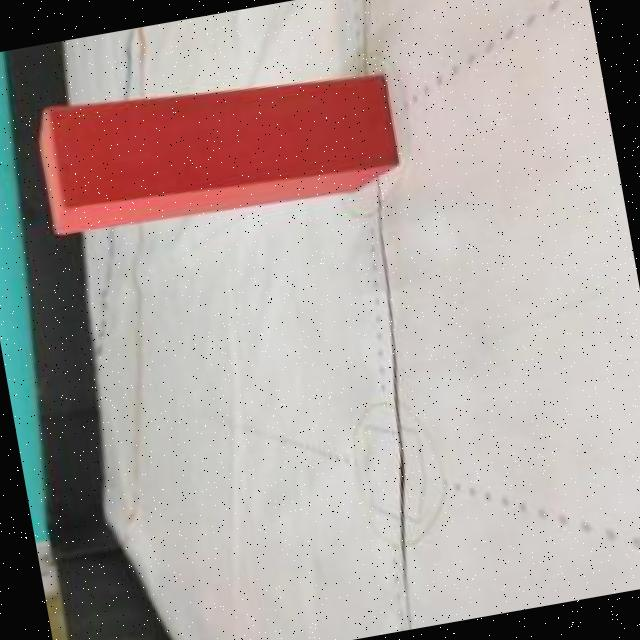redbox: (29, 48, 403, 245)
